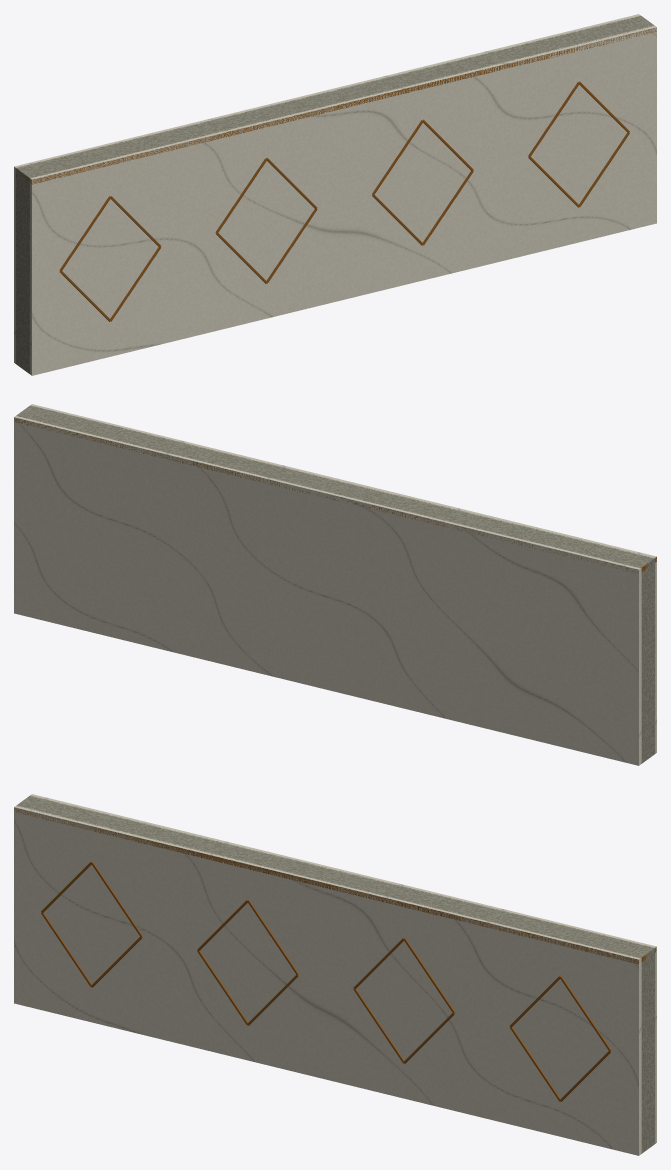
The picture shows the model from 3 angles, top to bottom: view 1: azimuth 30°, elevation 25°; view 2: azimuth 150°, elevation 25°; view 3: azimuth 330°, elevation 25°; orthographic projection.
Parts seen in each view (by area): view 1: Marble outer face, Parapet bearing wall, Bronze weather cap, Marble inner face; view 2: Marble inner face, Parapet bearing wall, Marble outer face, Bronze weather cap; view 3: Marble outer face, Parapet bearing wall, Bronze weather cap, Marble inner face.
Boxes of the visible parts, x1,y1,x2,y2 form: Marble outer face: (29, 25, 656, 375); Parapet bearing wall: (15, 15, 654, 374); Bronze weather cap: (18, 28, 656, 184); Marble inner face: (14, 14, 640, 363); Marble inner face: (14, 416, 641, 765); Parapet bearing wall: (16, 405, 655, 763); Marble outer face: (30, 404, 656, 753); Bronze weather cap: (14, 418, 656, 572); Marble outer face: (14, 805, 641, 1155); Parapet bearing wall: (16, 795, 655, 1153); Bronze weather cap: (14, 807, 656, 964); Marble inner face: (30, 794, 656, 1143).
Size of the model in its own units: 4 by 1.2 by 0.207.
3 materials, 3 textured.
